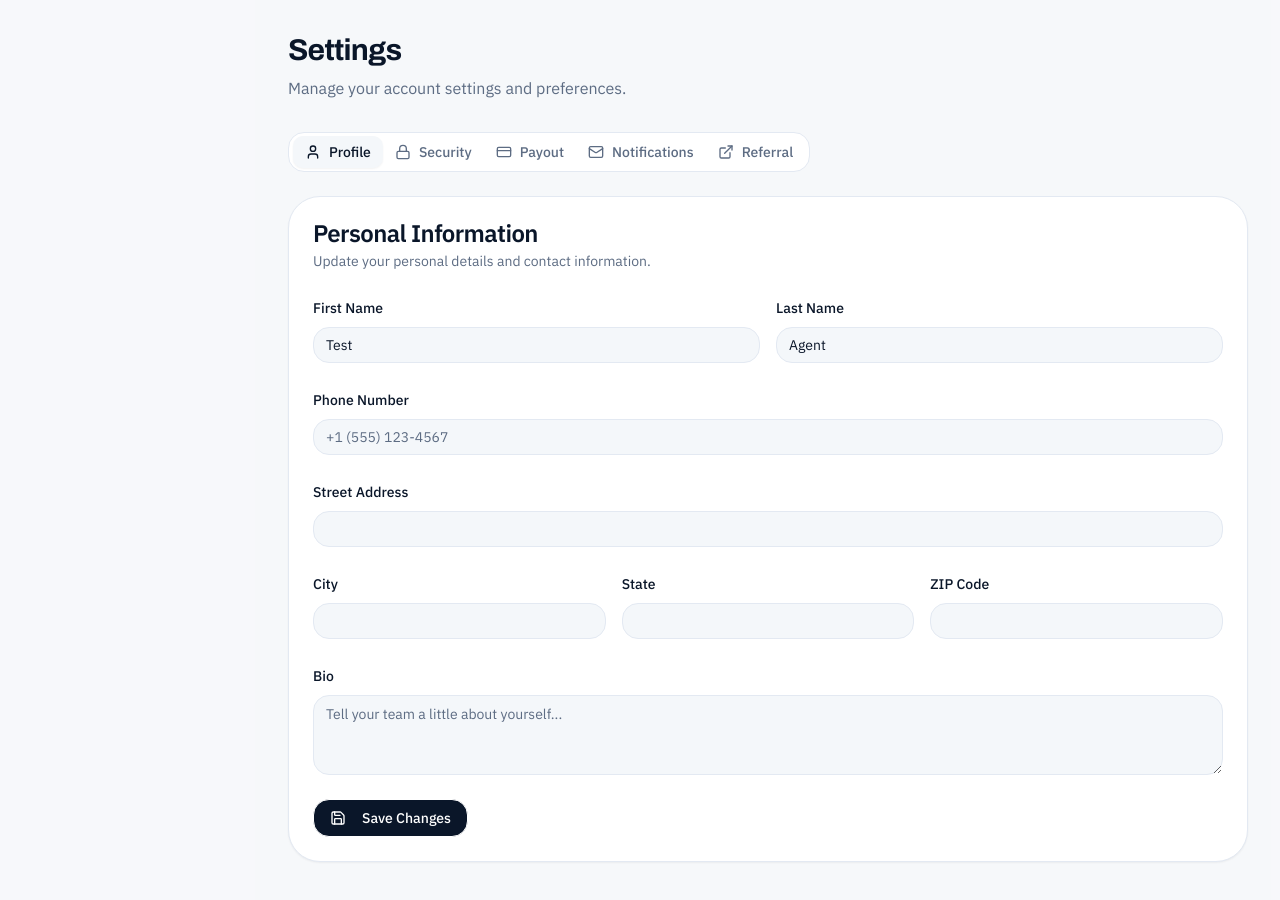
it: Settings notifications: 'all notifications off' warning › shows the warning when all three subscription toggles (Paused, Cancelled, Reactivated) are off
Click the tab with test id "tab-notifications". click: click(641, 152)
box: x1=576 y1=136 x2=706 y2=168
(page scrolled)
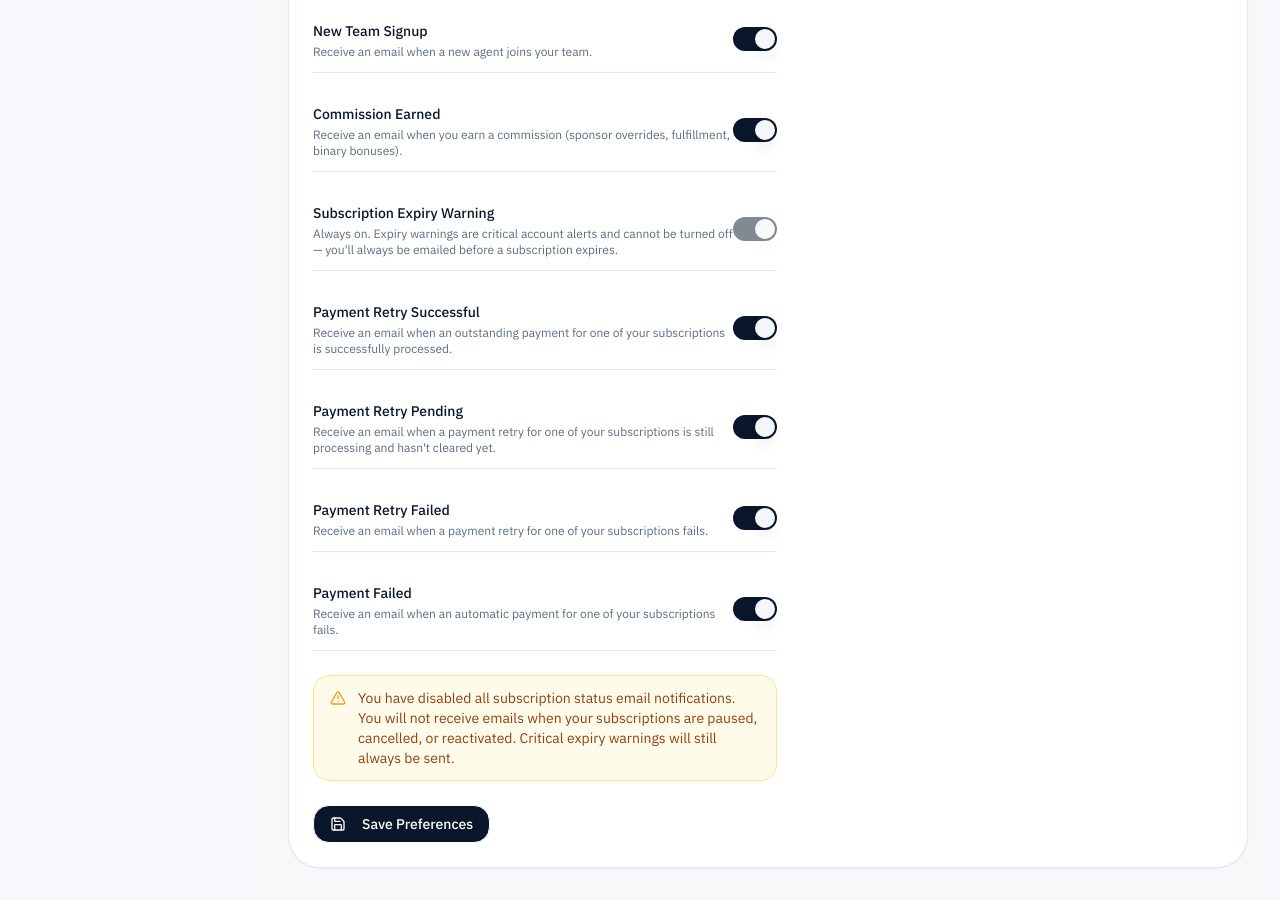
Check: the element with test id "warning-all-notifications-off" is shown, box x1=313 y1=675 x2=777 y2=781
